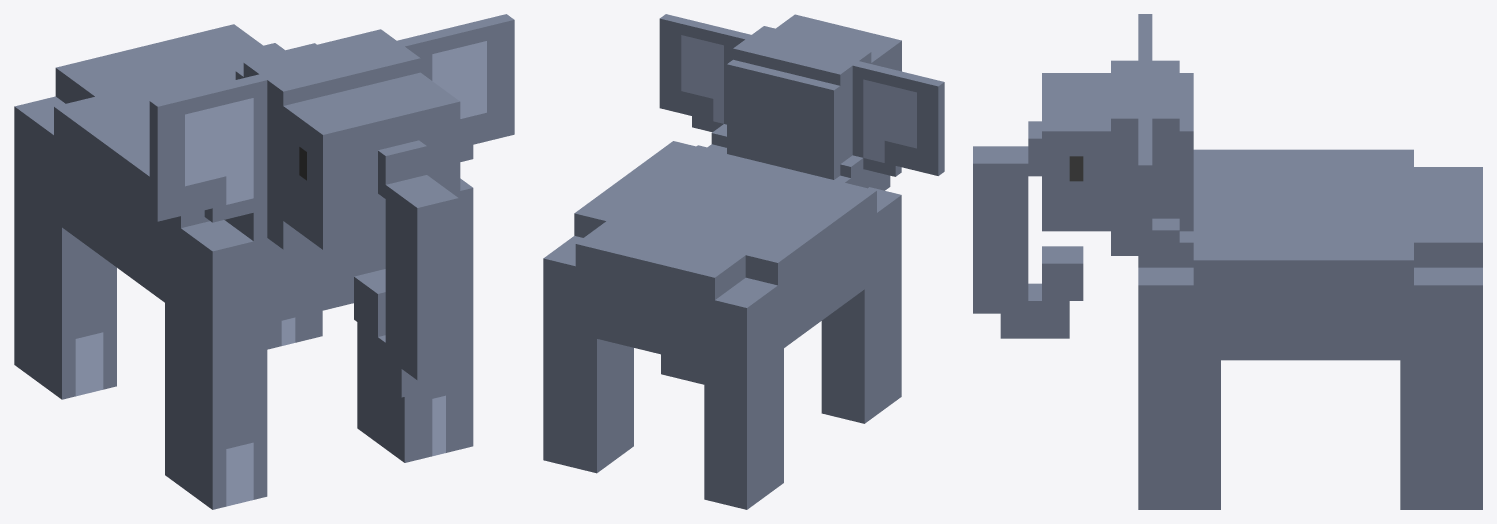
File: zoo-2-elefante.obj
The picture shows the model from 3 angles, left to right: view 1: azimuth 30°, elevation 25°; view 2: azimuth 150°, elevation 25°; view 3: azimuth 270°, elevation 25°; orthographic projection. The views are drawn at different scales.
Visible parts, largest first — view 1: elefante; view 2: elefante; view 3: elefante.
Boxes of the visible parts, x1,y1,x2,y2 form: elefante: (14, 14, 514, 509); elefante: (543, 14, 944, 509); elefante: (973, 14, 1482, 509).
Size of the model in its own units: 2.6 by 2.9 by 3.7.
1 material, 1 textured.
